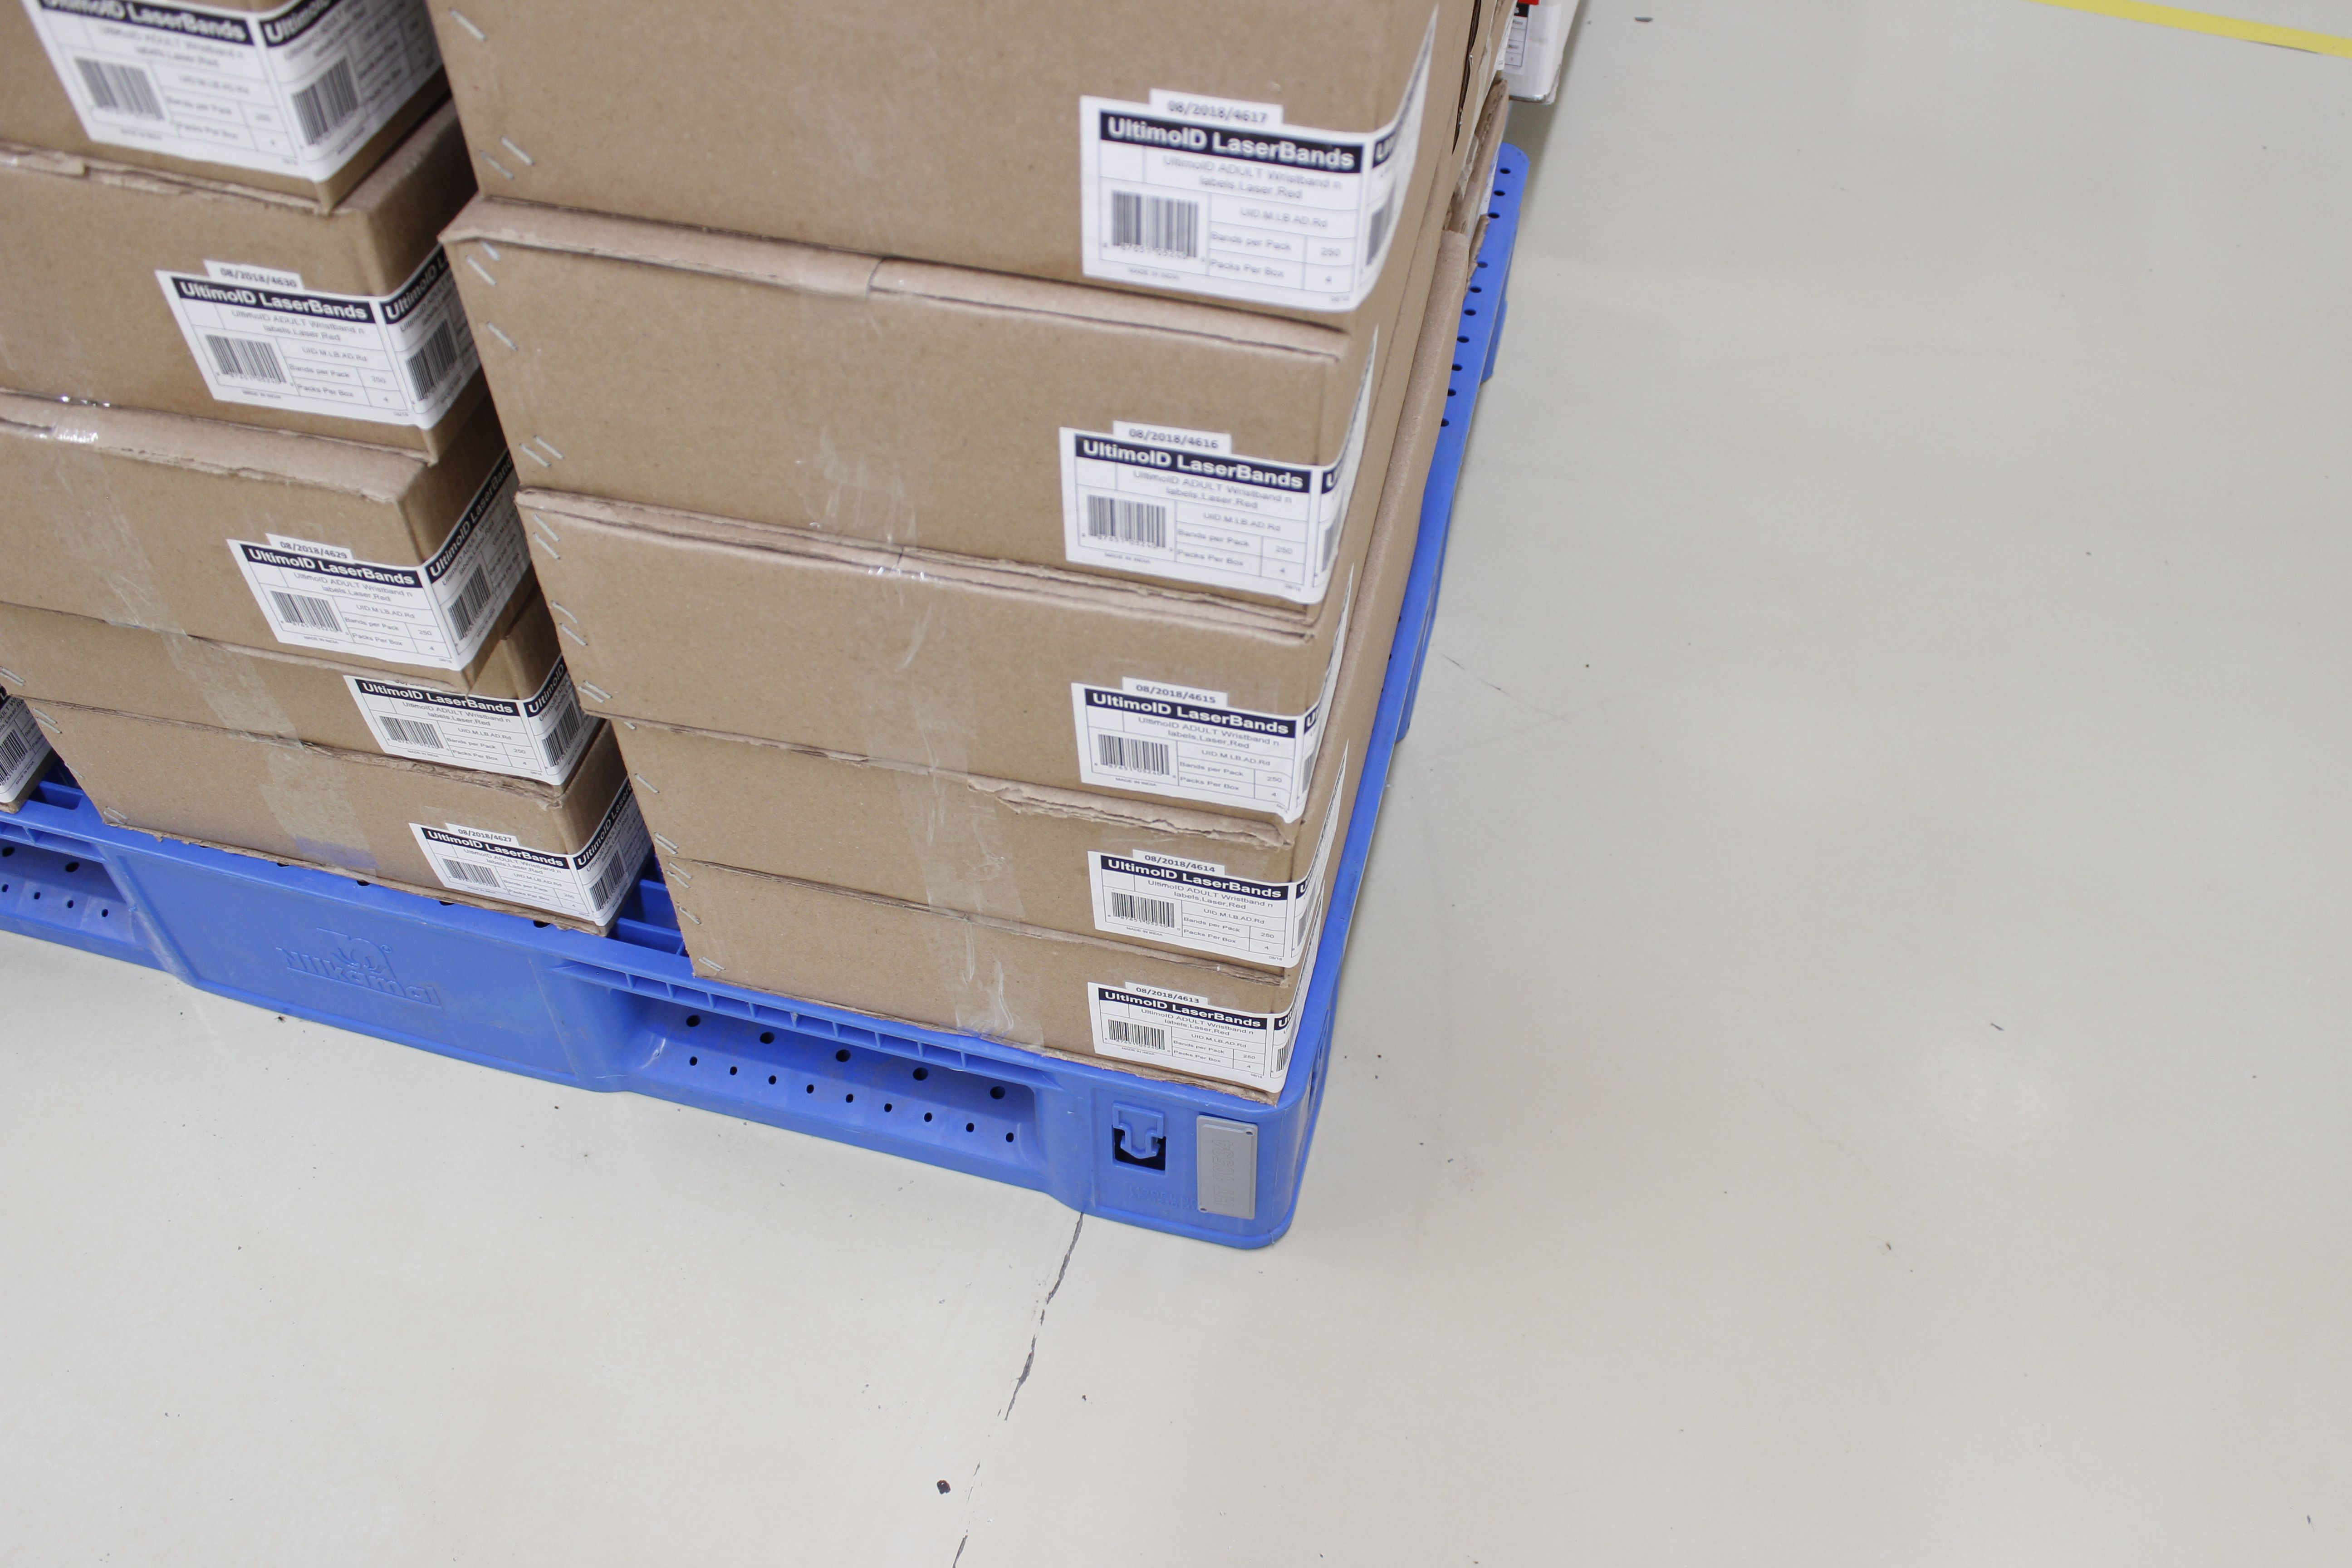box: (436, 2, 1479, 311), (525, 509, 1358, 851), (682, 851, 1358, 1080), (10, 404, 558, 667), (14, 719, 661, 936)
box_label: (1059, 93, 1419, 308), (24, 16, 387, 154), (1046, 432, 1334, 591), (152, 276, 462, 413), (213, 535, 509, 663), (1094, 837, 1321, 959), (1083, 682, 1307, 802), (1092, 987, 1291, 1099), (341, 682, 565, 780), (413, 824, 614, 922)
